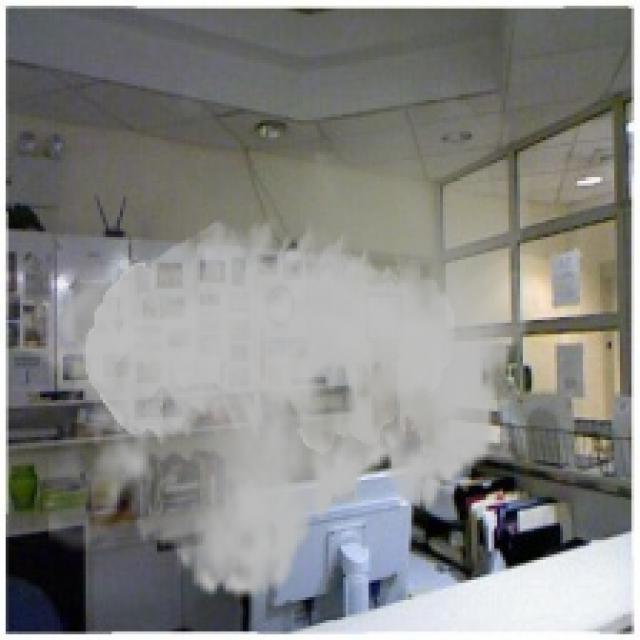Smoke: (14, 63, 540, 620)
